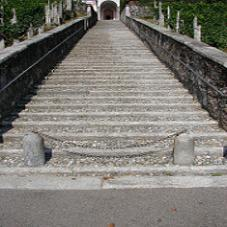Stair Up: (0, 20, 227, 175)
